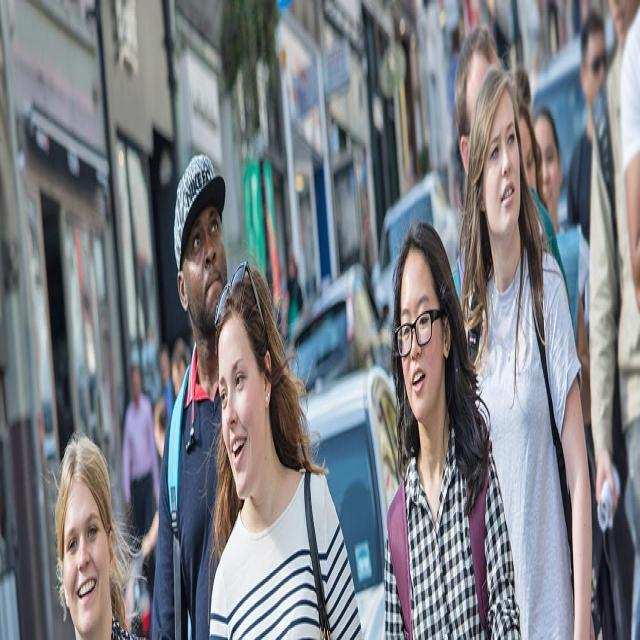body: (456, 62, 593, 640), (205, 254, 364, 640), (382, 216, 524, 640), (451, 24, 572, 342), (607, 0, 640, 640), (47, 426, 146, 637), (566, 9, 610, 244), (121, 359, 160, 601), (588, 71, 608, 536), (509, 64, 545, 211), (154, 334, 192, 462), (530, 103, 566, 232), (267, 251, 307, 341)
